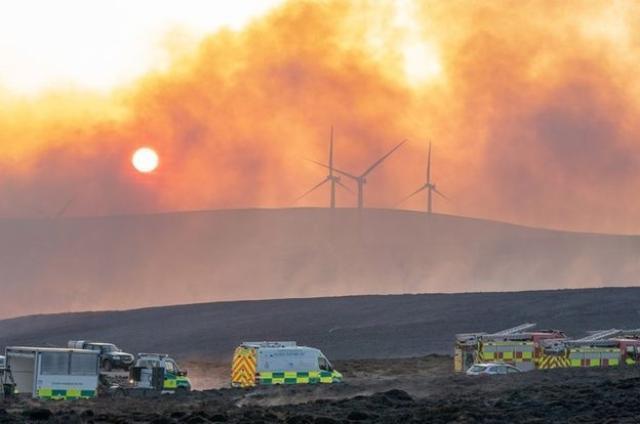smoke: (2, 29, 634, 327)
